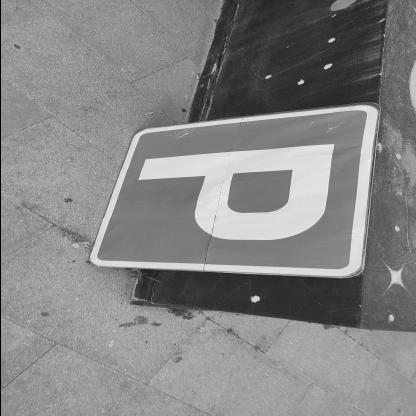Parking-Sign: (83, 101, 381, 279)
